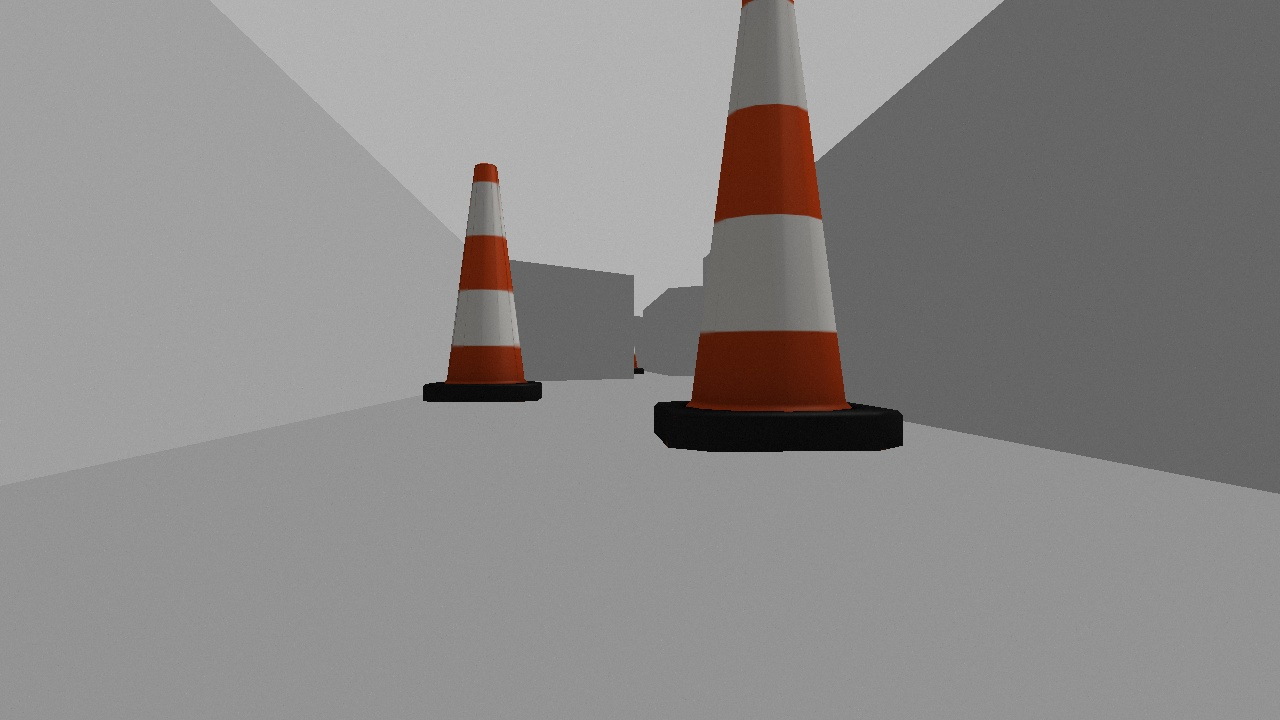barricade: (653, 1, 902, 453), (421, 162, 541, 403)
